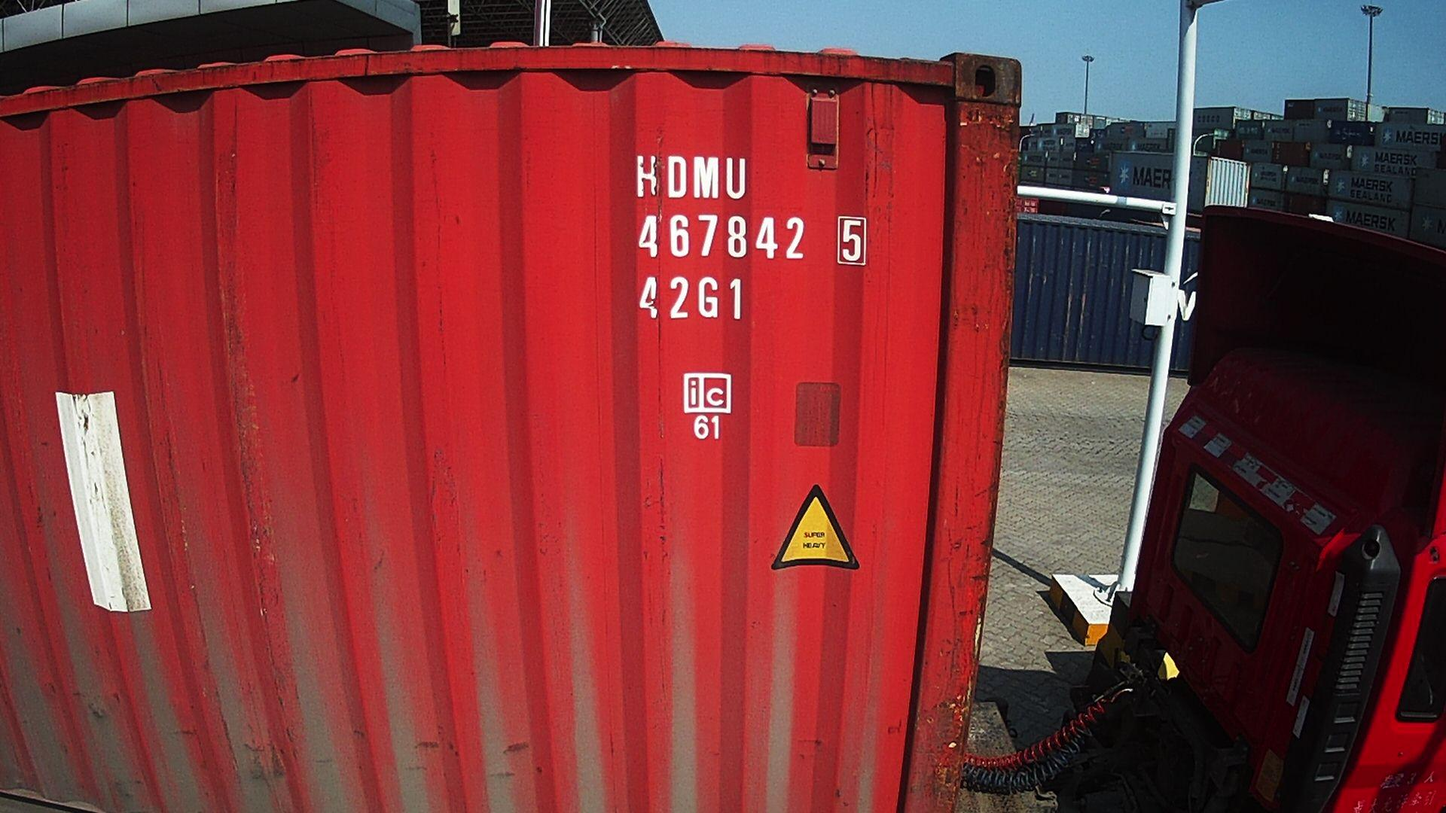container-numbers: (633, 211, 871, 266), (633, 151, 751, 203), (636, 273, 748, 325)
